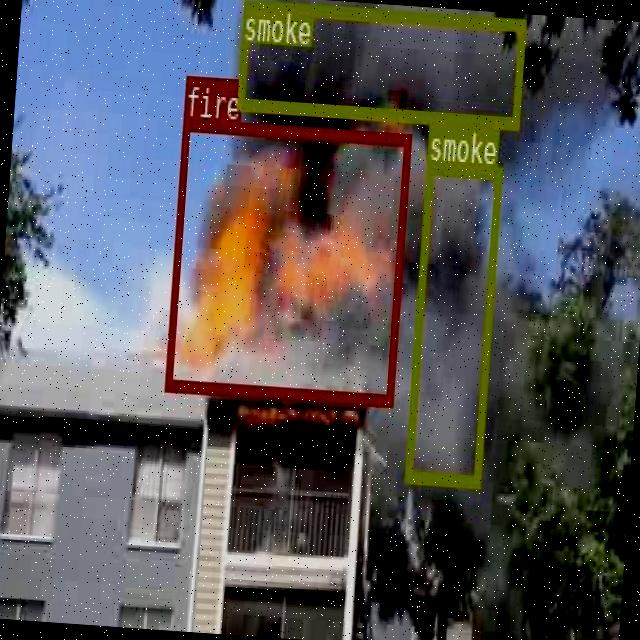fire: (163, 118, 410, 404)
smoke: (235, 0, 524, 127), (403, 161, 500, 484)
